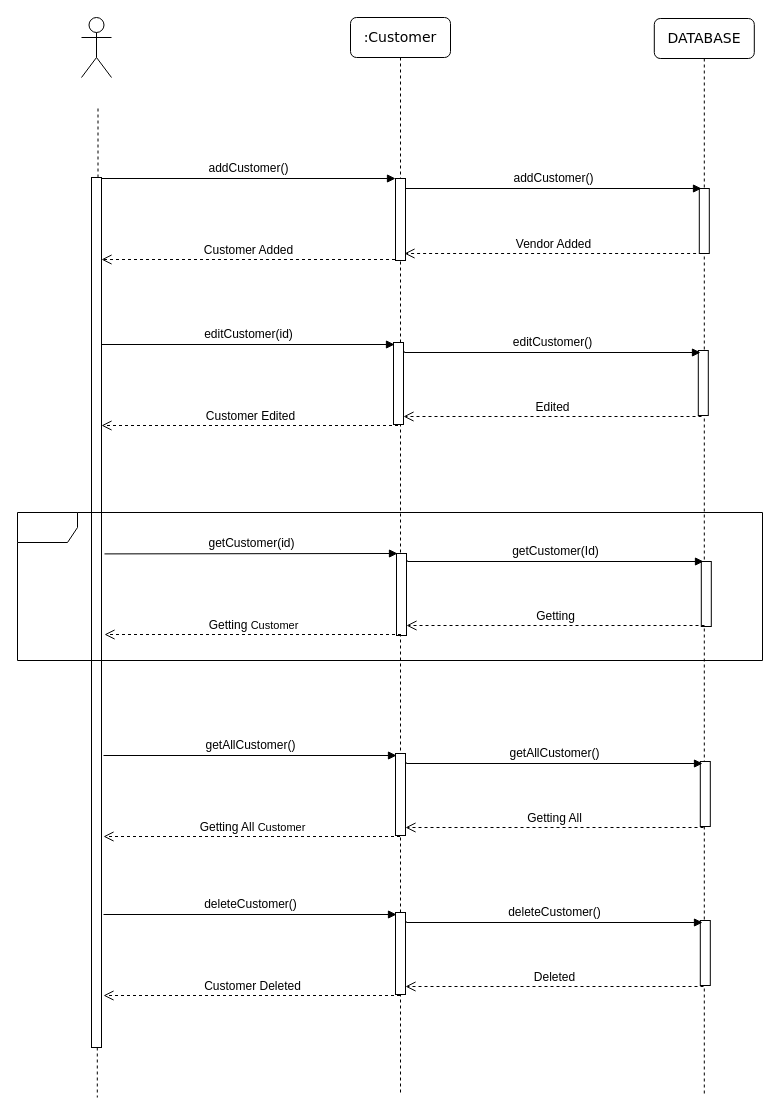
The diagram is 780 pixels wide and 1116 high, and some of its shapes have lost their labels. Here are the shapes that lost their labels. From the top down, the centre of each, then its label:
pixel 96 47: Admin
pixel 389 586: loop
